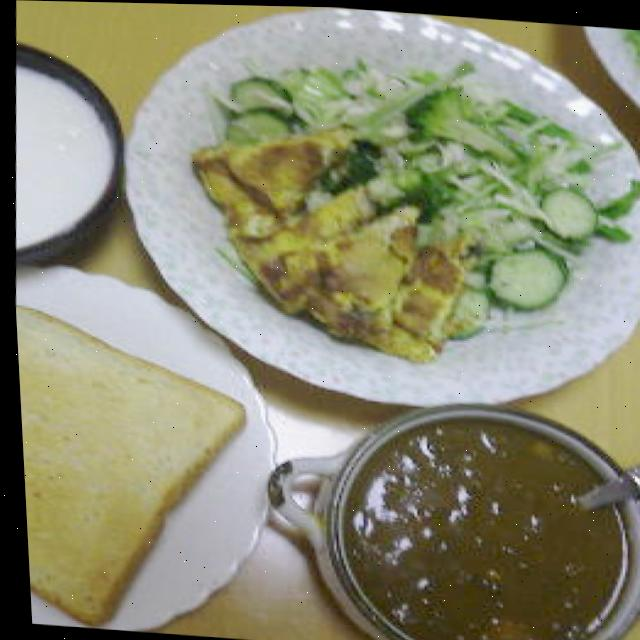蔬菜料理: (115, 15, 640, 374)
面包点心: (11, 273, 269, 639)
